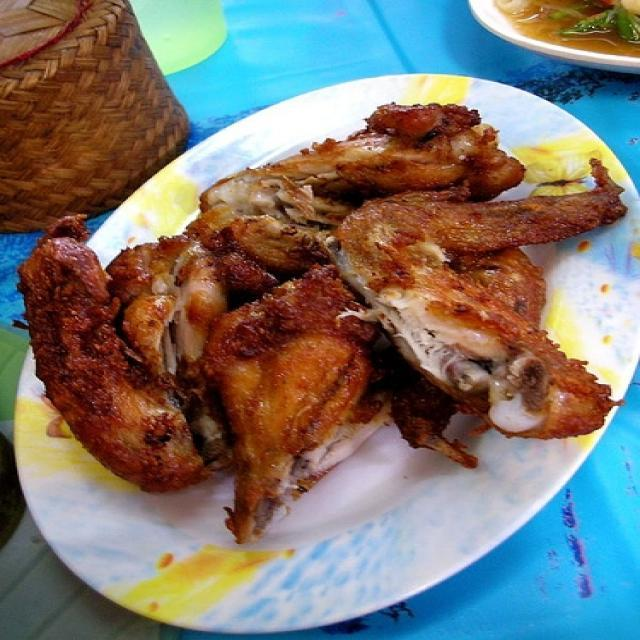Deep fried chicken wing: (46, 113, 590, 524)
